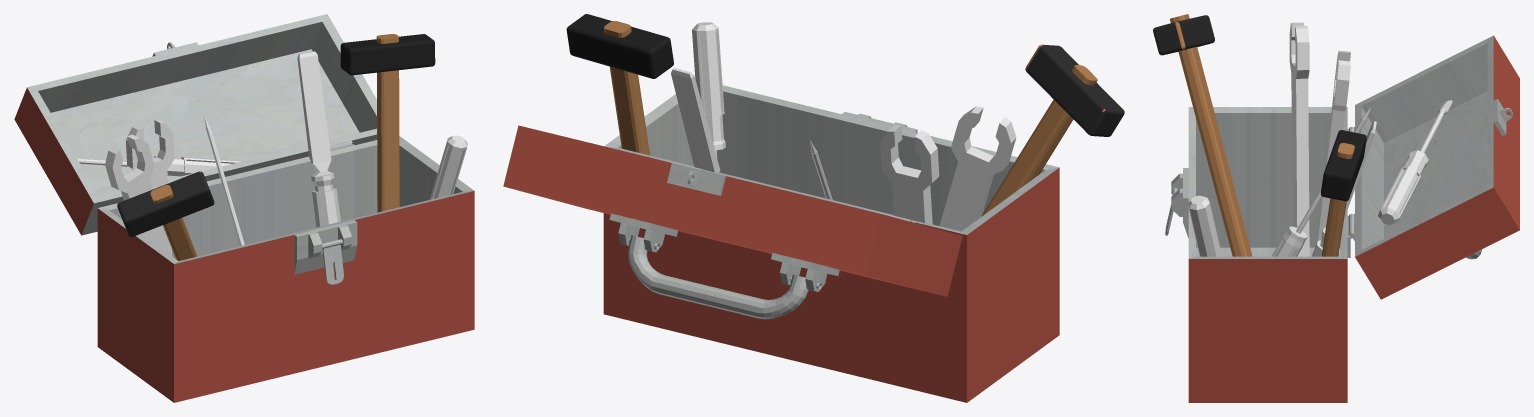
File: ToolBox.glb
3 renders of one model, left to right at view 1: azimuth 30°, elevation 25°; view 2: azimuth 150°, elevation 25°; view 3: azimuth 270°, elevation 25°, orthographic. The views are drawn at different scales.
Parts seen in each view (by area): view 1: Box, Hammer2, Hammer1, Cylinder.002, Cube.001, Cube.002, Cylinder, Cylinder.001, Cylinder.003; view 2: Box, Hammer1, Hammer2, Cube.001, Cube.002, Cylinder, Cylinder.002; view 3: Box, Hammer1, Cube.001, Hammer2, Cylinder.001, Cube.002, Cylinder, Cylinder.003, Cylinder.002.
Boxes of the visible parts, box(x1,y1,x2,y2) form: Box: box(14, 14, 474, 402); Hammer2: box(340, 34, 435, 212); Hammer1: box(117, 171, 214, 260); Cylinder.002: box(297, 51, 340, 227); Cube.001: box(105, 134, 171, 255); Cube.002: box(125, 120, 174, 254); Cylinder: box(429, 135, 467, 199); Cylinder.001: box(76, 156, 243, 176); Cylinder.003: box(203, 114, 244, 245); Box: box(503, 85, 1059, 402); Hammer1: box(982, 44, 1124, 216); Hammer2: box(566, 14, 673, 155); Cube.001: box(939, 106, 1016, 231); Cube.002: box(880, 125, 939, 224); Cylinder: box(692, 22, 725, 157); Cylinder.002: box(671, 68, 720, 172); Box: box(1165, 35, 1519, 402); Hammer1: box(1153, 14, 1252, 256); Cube.001: box(1289, 22, 1309, 256); Hammer2: box(1321, 130, 1366, 256); Cylinder.001: box(1378, 100, 1452, 225); Cube.002: box(1316, 50, 1350, 244); Cylinder: box(1187, 195, 1221, 256); Cylinder.003: box(1271, 107, 1371, 256); Cylinder.002: box(1312, 121, 1376, 256).
Size of the model in its own units: 5.76 by 3.48 by 4.62.
Materials: 6 (1 with a texture image).
